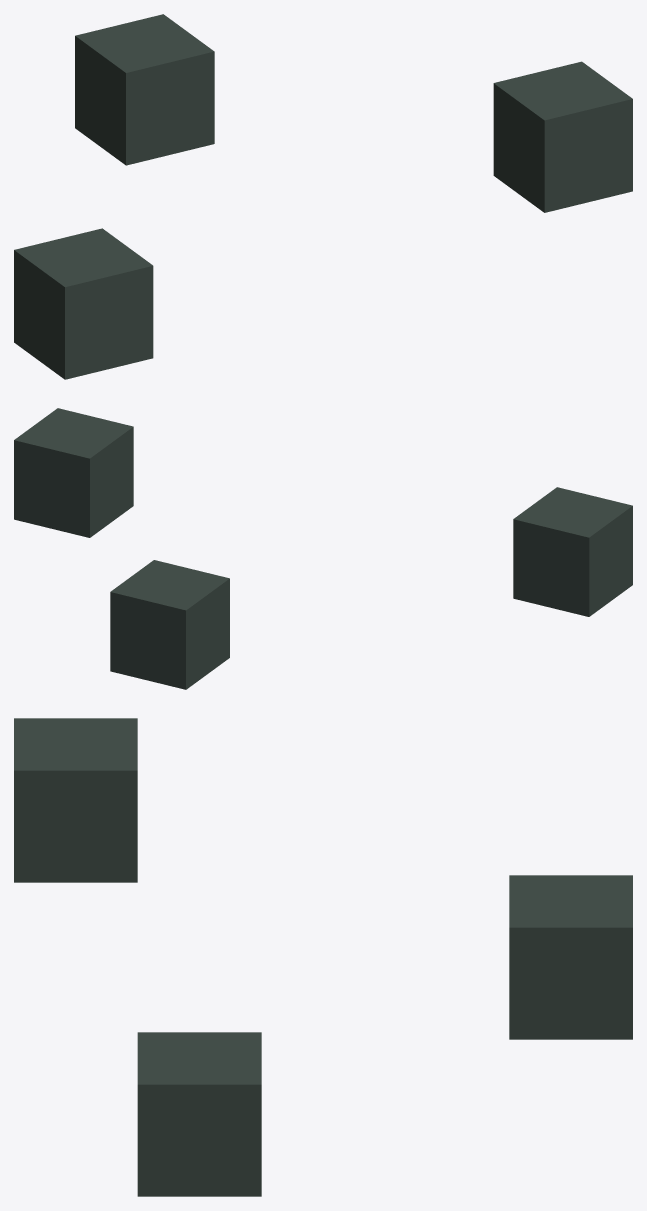
Rendered from Stones3.obj.
The picture shows the model from 3 angles, top to bottom: view 1: azimuth 30°, elevation 25°; view 2: azimuth 150°, elevation 25°; view 3: azimuth 270°, elevation 25°; orthographic projection. The views are drawn at different scales.
Parts seen in each view (by area): view 1: Stones3; view 2: Stones3; view 3: Stones3.
Boxes of the visible parts, x1,y1,x2,y2 form: Stones3: (14,14,632,379); Stones3: (14,408,632,689); Stones3: (14,718,632,1196).
Size of the model in its own units: 0.7 by 0.1 by 0.5.
1 material, 1 textured.
